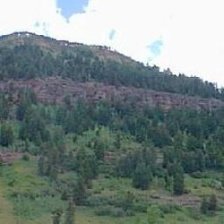neutral: (1, 7, 224, 223)
